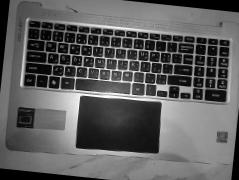electronic: (2, 0, 239, 172)
